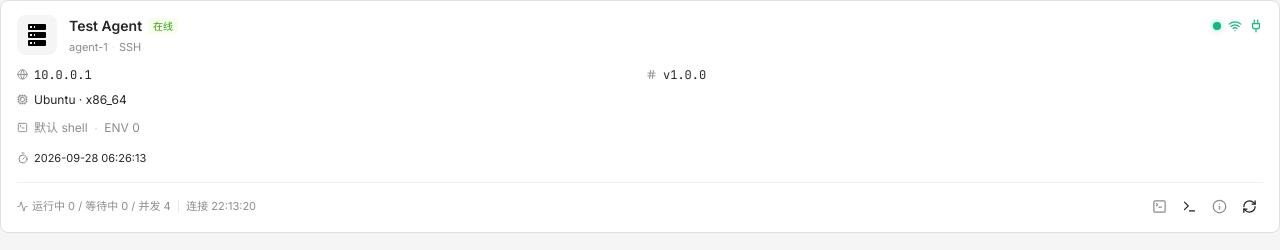
Test case: <ServerCard /> › LastExecTime › 点击时间切换为相对时间格式
Click the button "2026-09-28 06:26:13": (82, 158) [17,150,146,164]
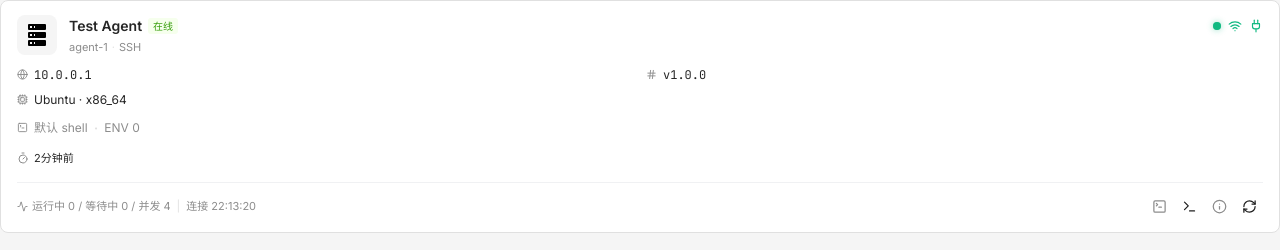
Expected: the text "2分钟前" is shown, [34,150,74,166]
